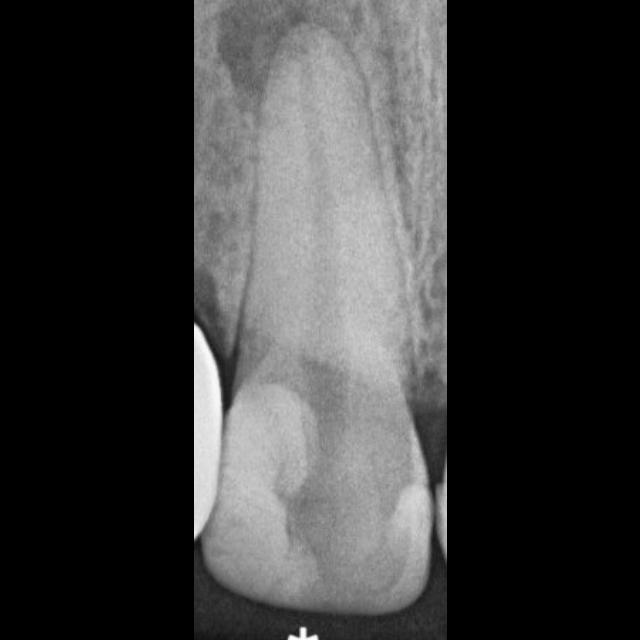tooth: (204, 31, 425, 612)
